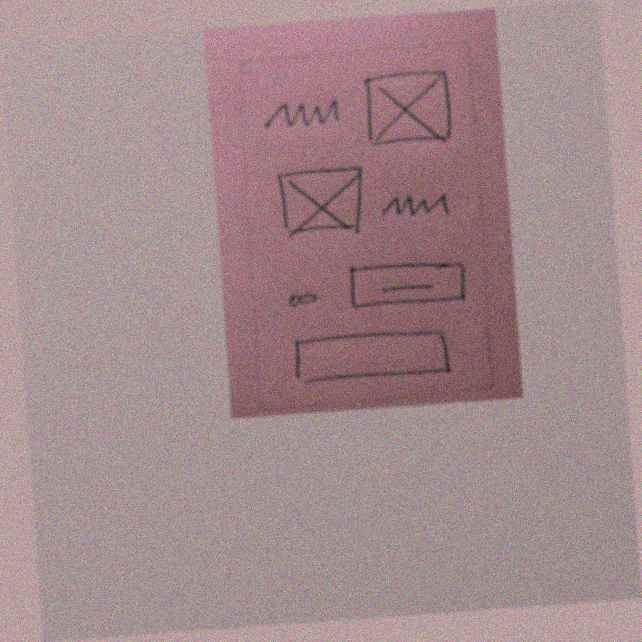button: (342, 247, 476, 318)
image: (270, 158, 368, 244), (359, 66, 457, 151)
switch: (278, 285, 326, 312)
text: (256, 91, 352, 137), (373, 184, 460, 227)
text_input: (284, 319, 459, 390)
